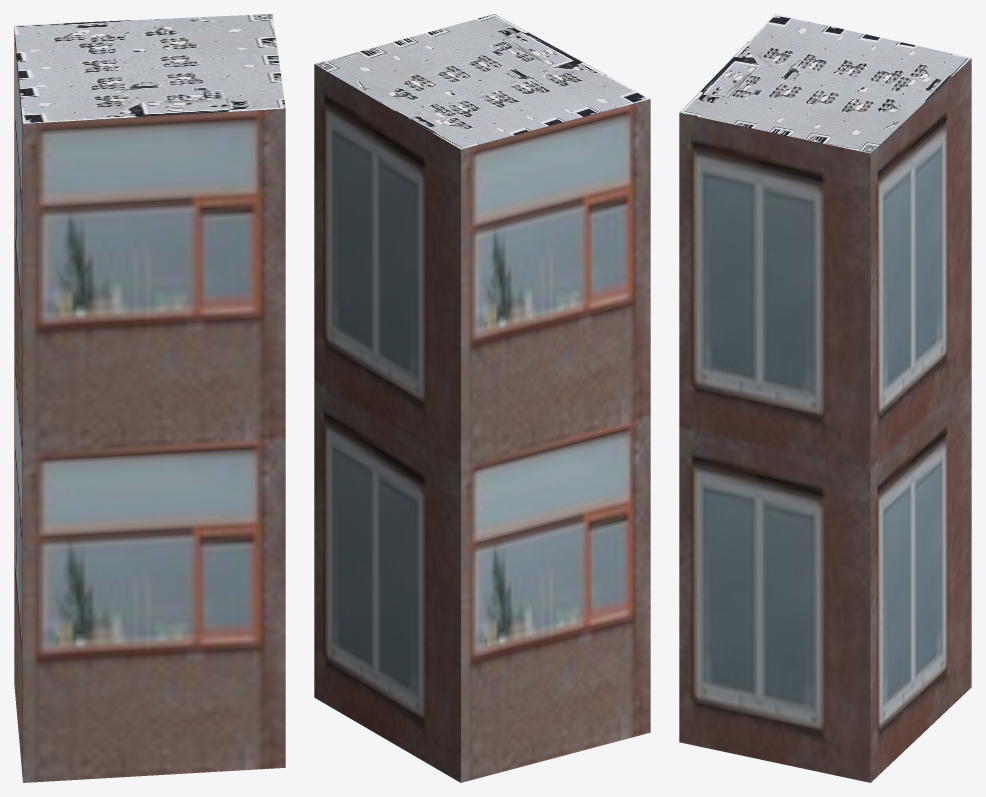
File: ResTex__4584.fbx
The picture shows the model from 3 angles, left to right: view 1: azimuth 30°, elevation 25°; view 2: azimuth 150°, elevation 25°; view 3: azimuth 270°, elevation 25°; orthographic projection. The views are drawn at different scales.
Visible parts, largest first — view 1: CityEngineMaterial_19_m, CityEngineMaterial_8_m; view 2: CityEngineMaterial_19_m, CityEngineMaterial_8_m; view 3: CityEngineMaterial_19_m, CityEngineMaterial_8_m.
Boxes of the visible parts, x1,y1,x2,y2 form: CityEngineMaterial_19_m: (14,27,285,782); CityEngineMaterial_8_m: (14,14,285,123); CityEngineMaterial_19_m: (314,64,650,782); CityEngineMaterial_8_m: (314,14,649,149); CityEngineMaterial_19_m: (679,58,971,782); CityEngineMaterial_8_m: (679,14,971,153).
Bounding box in the file's own units: 2.86 × 6 × 2.53.
Materials: 2 (2 with a texture image).
